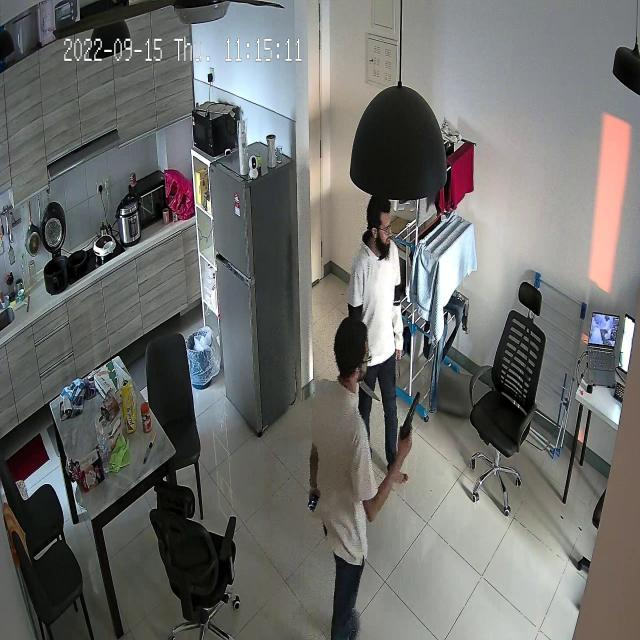Gun: (388, 373, 432, 439)
Knife: (358, 377, 382, 413)
